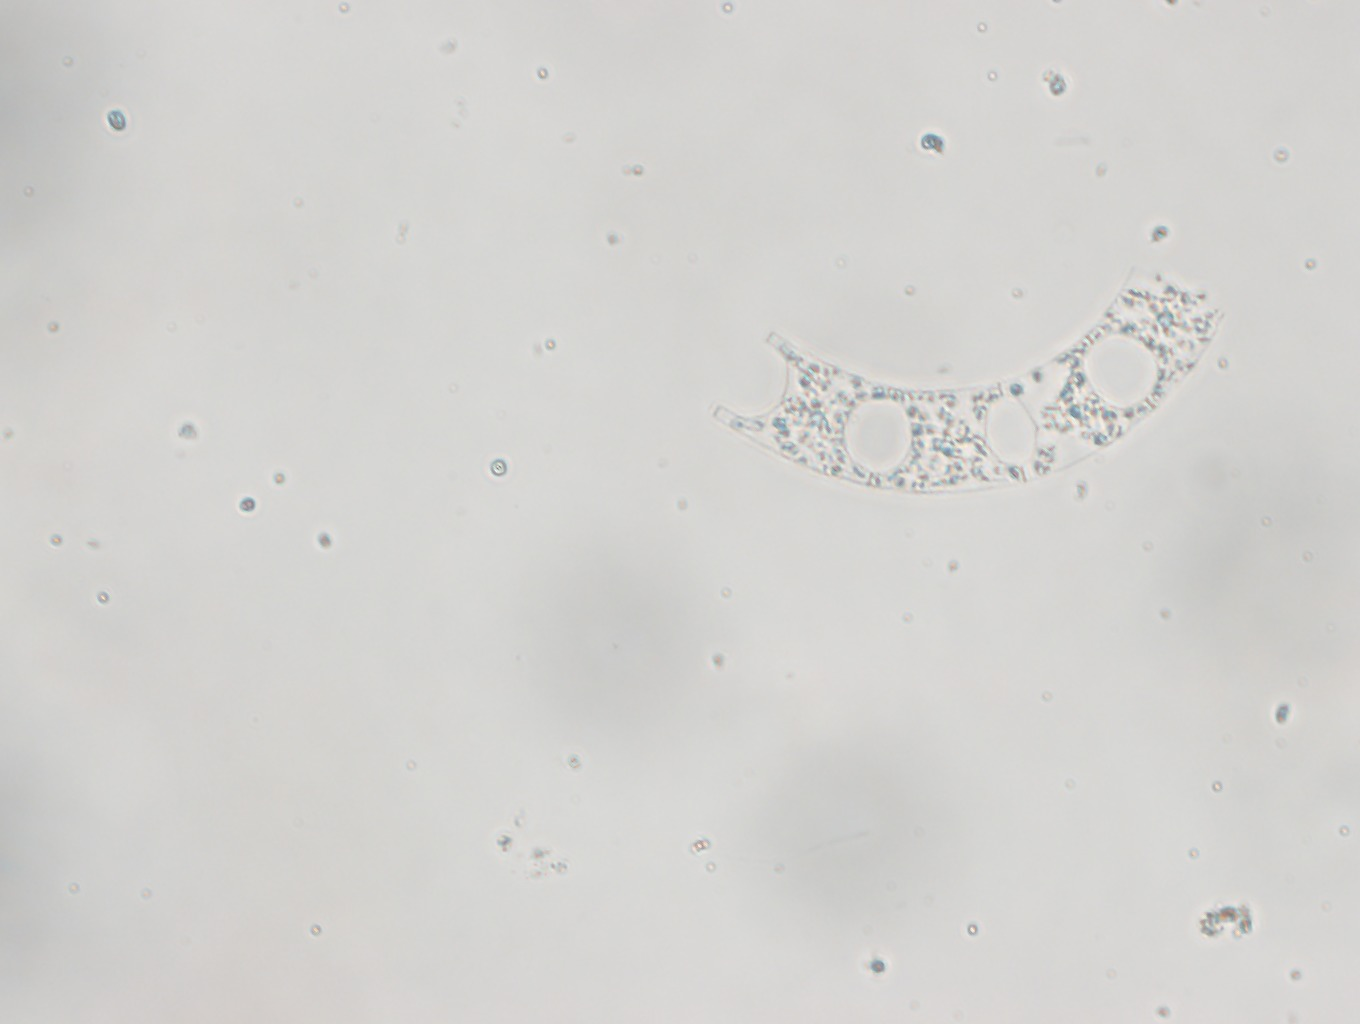eucampia: (708, 261, 1228, 499)
